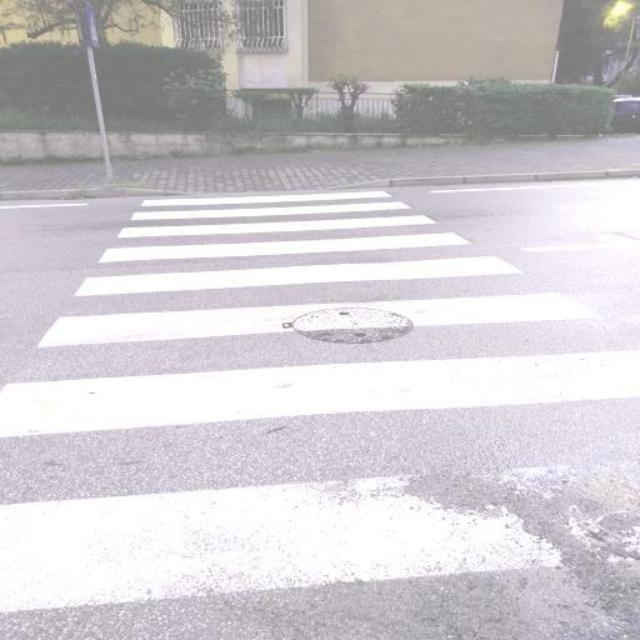sidewalk: (0, 188, 640, 640)
